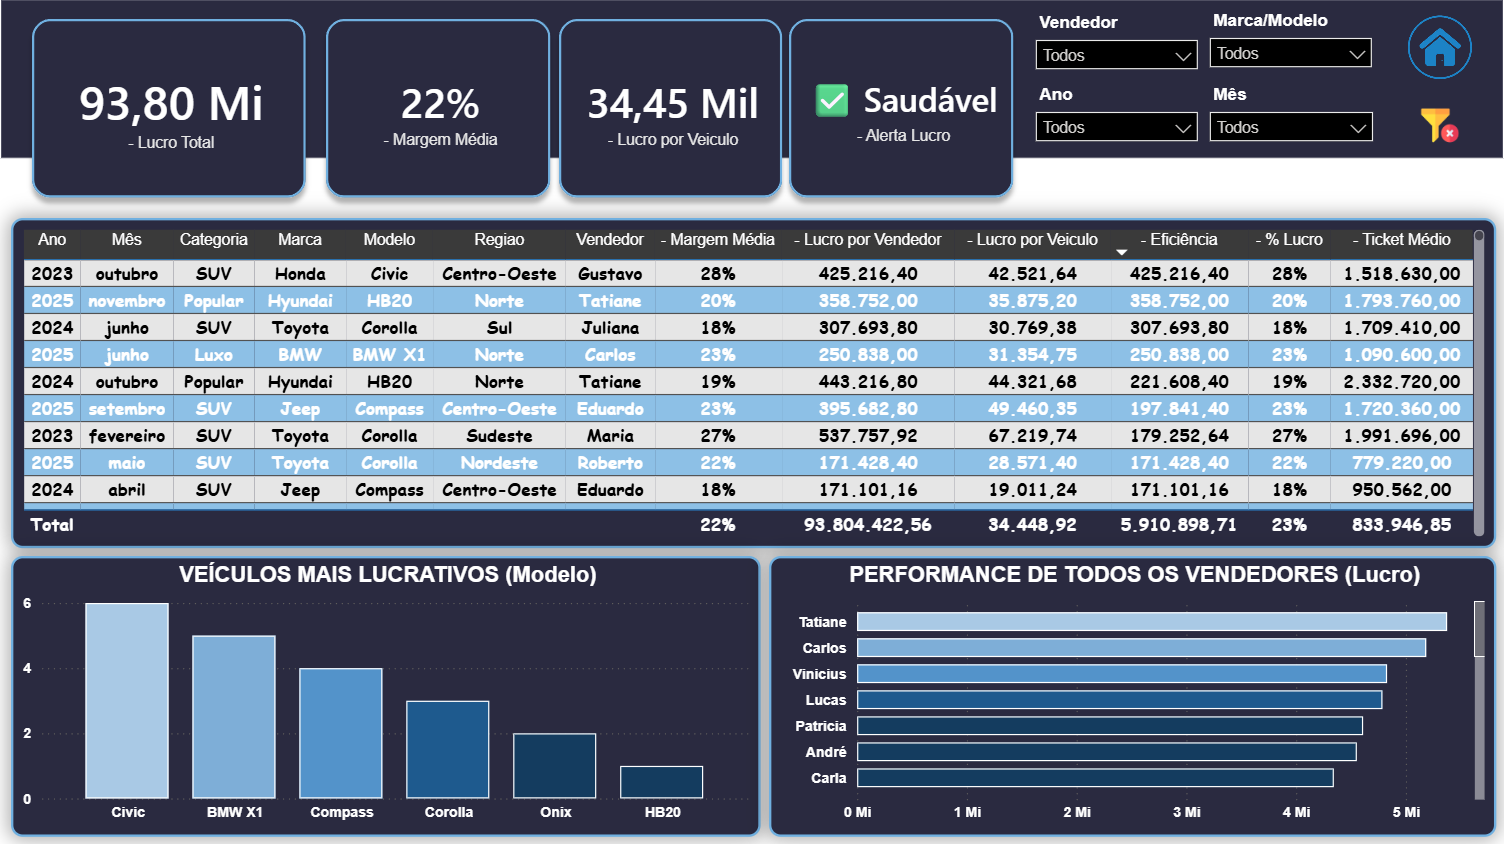

What the dashboard file says about the page in this screenshot:
{"tool":"powerbi","page":{"name":"RELATÓRIO DETALHADO - MAIOR LUCRO","canvas":[1280,720],"ordinal":3},"visuals":[{"type":"shape","box":[0,0,1280,136.1],"z":0},{"type":"cardVisual","fields":{"Data":["Base.- Lucro por Veiculo"]},"box":[458.3,0,224.7,186.2],"z":1000},{"type":"cardVisual","fields":{"Data":["Base.- Margem Média"]},"box":[260.6,0,226,186.2],"z":2000},{"type":"cardVisual","title":"RECEITA ","fields":{"Data":["Base.- Lucro Total"]},"box":[10.3,0,267,186.2],"z":3000},{"type":"cardVisual","fields":{"Data":["Base.- Alerta Lucro"]},"box":[654.8,0,226,186.2],"z":4000},{"type":"tableEx","title":"VEÍCULOS PARADOS (Marca)","fields":{"Values":["Base.Data.Variation.Hierarquia de datas.Ano","Base.Data.Variation.Hierarquia de datas.Mês","Base.Categoria","Base.Marca","Base.Modelo","Base.Regiao","Base.Vendedor","Base.- Margem Média","Base.- Lucro por Vendedor","Base.- Lucro por Veiculo","Base.- Eficiência","Base.- % Lucro"]},"box":[9.5,186.4,1263.9,281],"z":5000},{"type":"slicer","fields":{"Values":["Base.Vendedor"]},"box":[871.3,6.6,158.2,63.7],"z":12000},{"type":"slicer","fields":{"Values":["Base.Data.Variation.Hierarquia de datas.Ano"]},"box":[871.2,68.4,158.2,63.8],"z":13000},{"type":"image","box":[1188.4,6.5,75.8,68.4],"z":14000},{"type":"slicer","fields":{"Values":["Base.Marca","Base.Modelo"]},"box":[1019.6,5.5,158.2,63.7],"z":15000},{"type":"image","box":[1197.7,82.3,56.4,49.9],"z":16000},{"type":"slicer","fields":{"Values":["Base.Data.Variation.Hierarquia de datas.Mês"]},"box":[1019.8,68.1,158.9,63.4],"z":17000},{"type":"clusteredColumnChart","title":"VEÍCULOS MAIS LUCRATIVOS (Modelo)","fields":{"Category":["Base.Modelo"],"Y":["Base.- Ranking Lucro"]},"box":[9.5,474,637.6,239.3],"z":18000},{"type":"barChart","title":"PERFORMANCE DE TODOS OS VENDEDORES (Lucro)","fields":{"Category":["Base.Vendedor"],"Y":["Base.- Lucro Total"]},"box":[654.7,474,618.7,239.3],"z":19000}]}

Visuals, with their boxes in screenshot pixels (x1, y1, x2, y2), scaled from the page's 1280x720 canvas onto the 1504x844 screenshot:
shape: Rect(0, 0, 1503, 160)
cardVisual - Base.- Lucro por Veiculo: Rect(539, 0, 803, 218)
cardVisual - Base.- Margem Média: Rect(306, 0, 572, 218)
"RECEITA " cardVisual: Rect(12, 0, 326, 218)
cardVisual - Base.- Alerta Lucro: Rect(769, 0, 1035, 218)
"VEÍCULOS PARADOS (Marca)" tableEx: Rect(11, 219, 1496, 548)
slicer - Base.Vendedor: Rect(1024, 8, 1210, 82)
slicer - Base.Data.Variation.Hierarquia de datas.Ano: Rect(1024, 80, 1210, 155)
image: Rect(1396, 8, 1485, 88)
slicer - Base.Marca x Base.Modelo: Rect(1198, 6, 1384, 81)
image: Rect(1407, 96, 1474, 155)
slicer - Base.Data.Variation.Hierarquia de datas.Mês: Rect(1198, 80, 1385, 154)
"VEÍCULOS MAIS LUCRATIVOS (Modelo)" clusteredColumnChart: Rect(11, 556, 760, 836)
"PERFORMANCE DE TODOS OS VENDEDORES (Lucro)" barChart: Rect(769, 556, 1496, 836)
